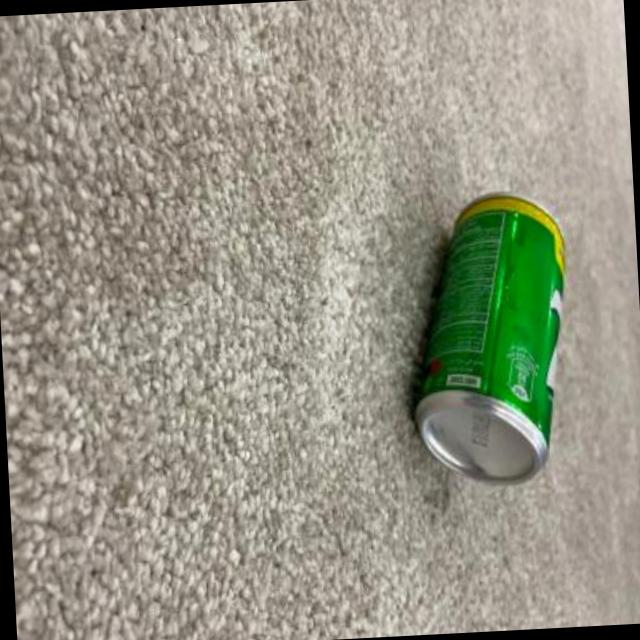metal: (418, 192, 566, 481)
